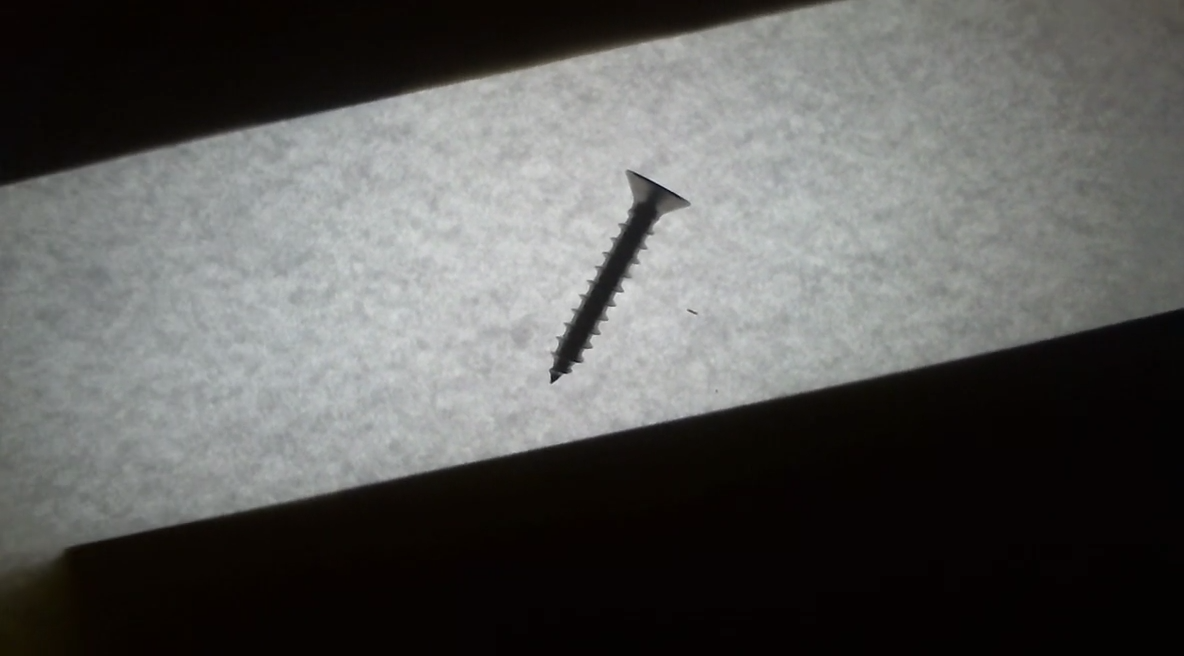S001: (534, 159, 699, 395)
